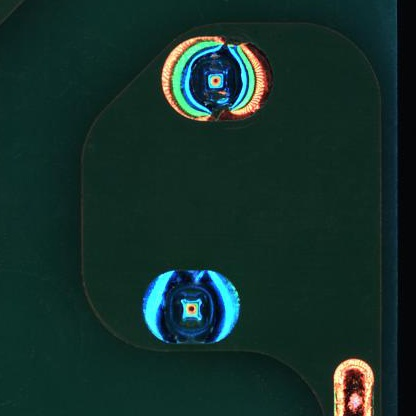spot: (148, 29, 280, 133), (132, 258, 256, 352)
